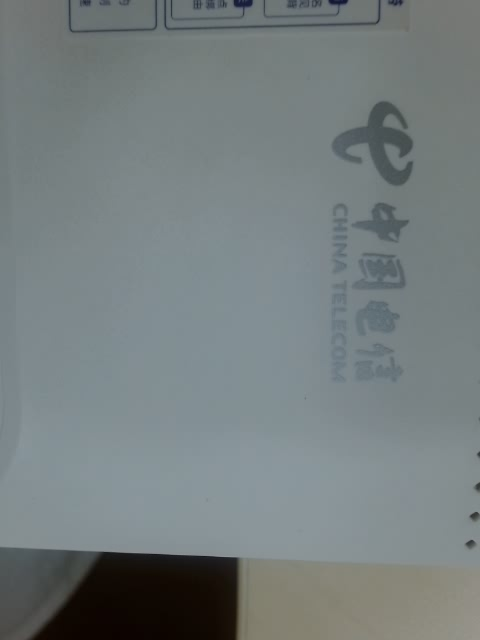AB_ChinaTelecom: (297, 77, 430, 400)
